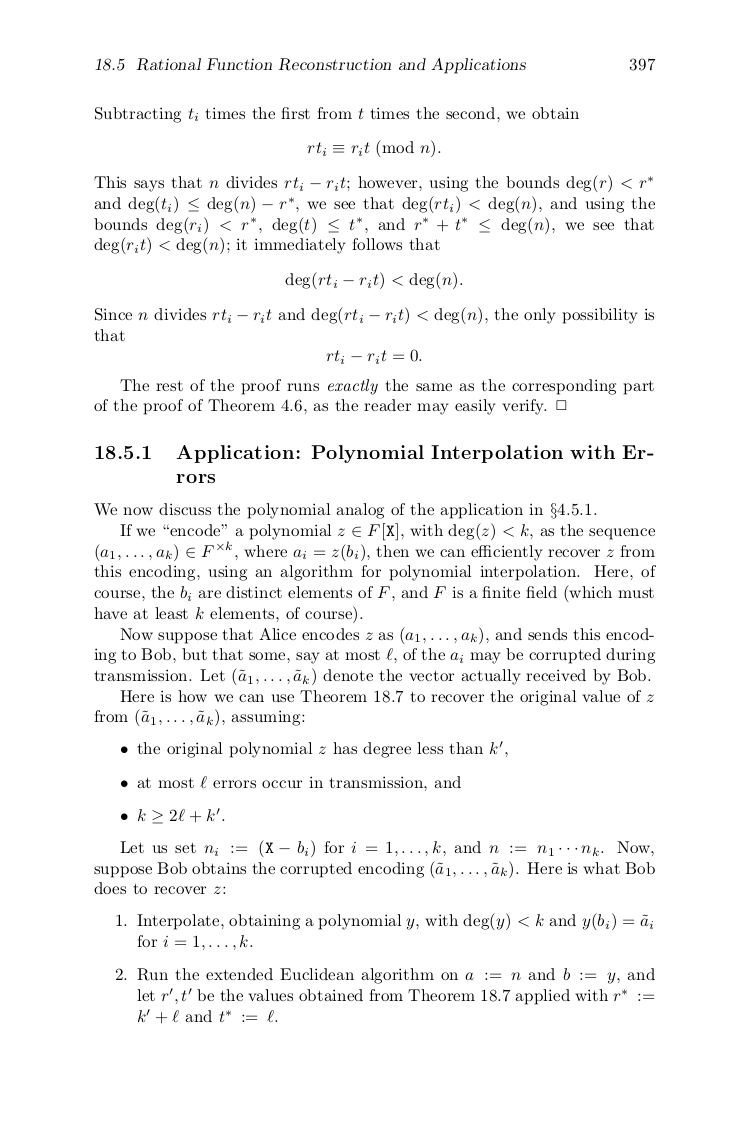formula: (285, 271, 462, 290), (307, 139, 440, 158), (326, 348, 421, 364)
